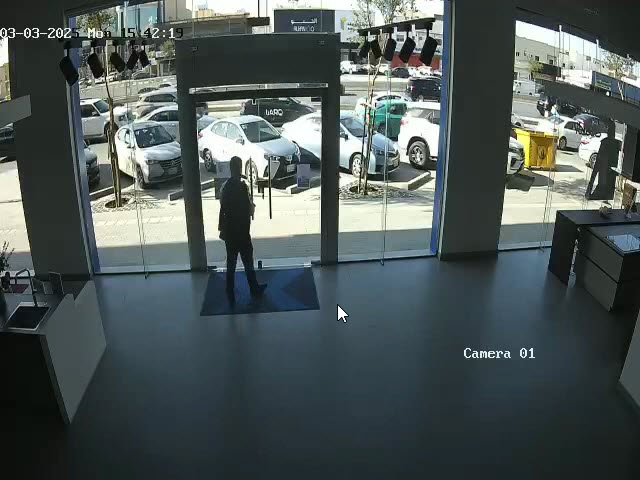employee: (218, 157, 267, 303)
